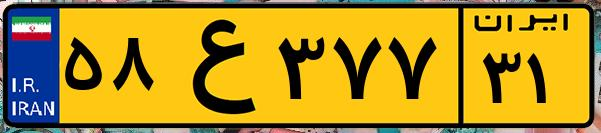1: (525, 38, 570, 115)
3: (270, 28, 330, 110), (475, 38, 525, 113)
5: (57, 26, 110, 100)
7: (385, 28, 445, 110), (330, 28, 385, 110)
8: (110, 28, 158, 98)
ع: (158, 12, 270, 120)
